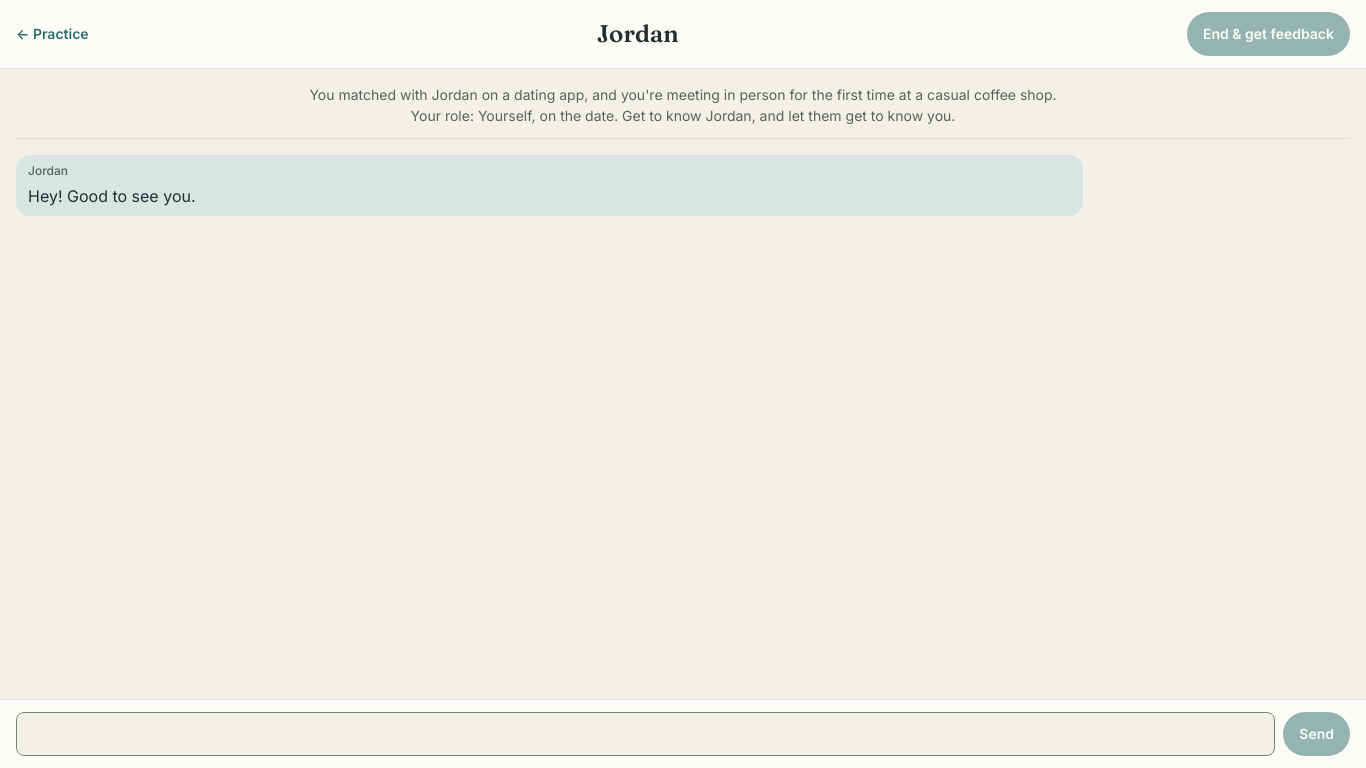
Test case: ConversationScreen › asks before leaving via the back button once the user has spoken, and stays put if declined
Expected: the text "Hey! Good to see you." is shown, [28,186,196,206]
Step 1. Type "Hi, nice to meet you!" into the field named "Message" → (646, 734), box [16,712,1275,756]
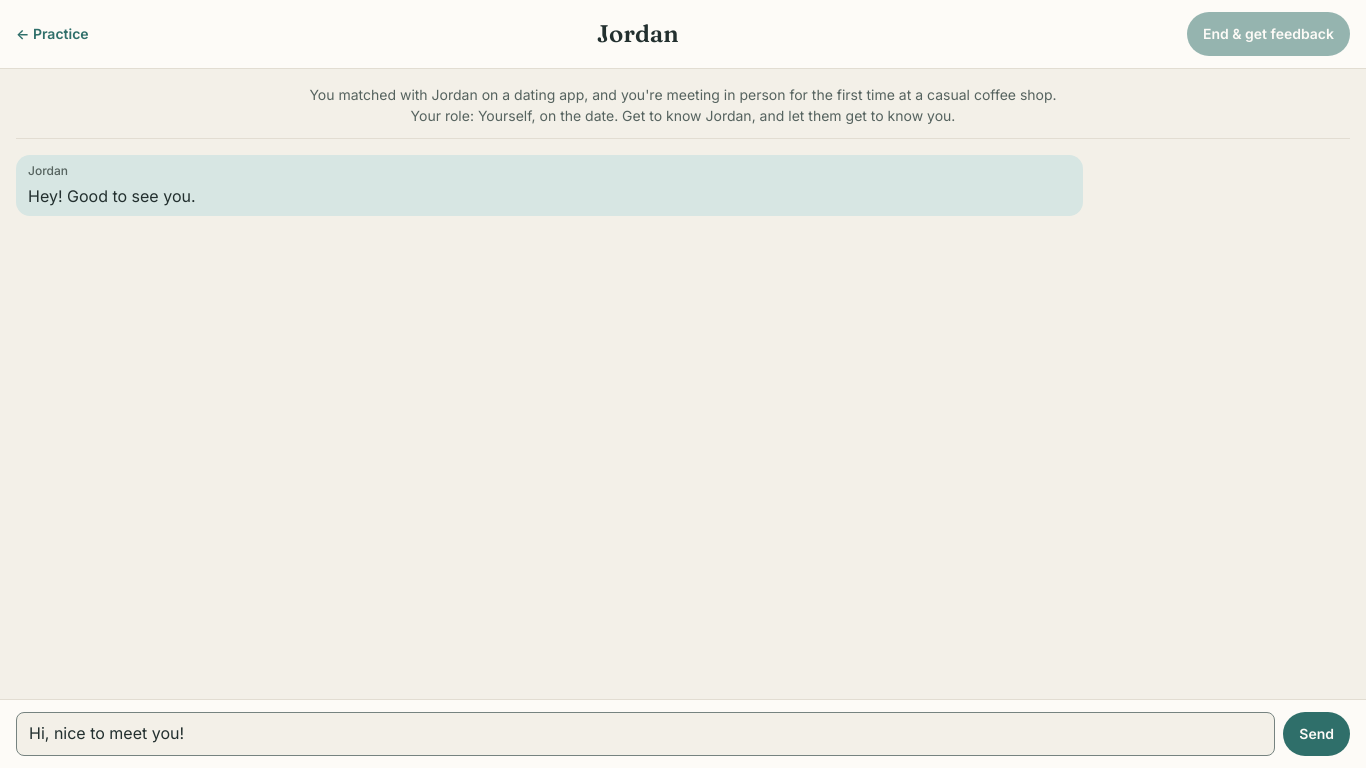
Step 2. Click the button "Send" → (1317, 734), box [1283,712,1350,756]
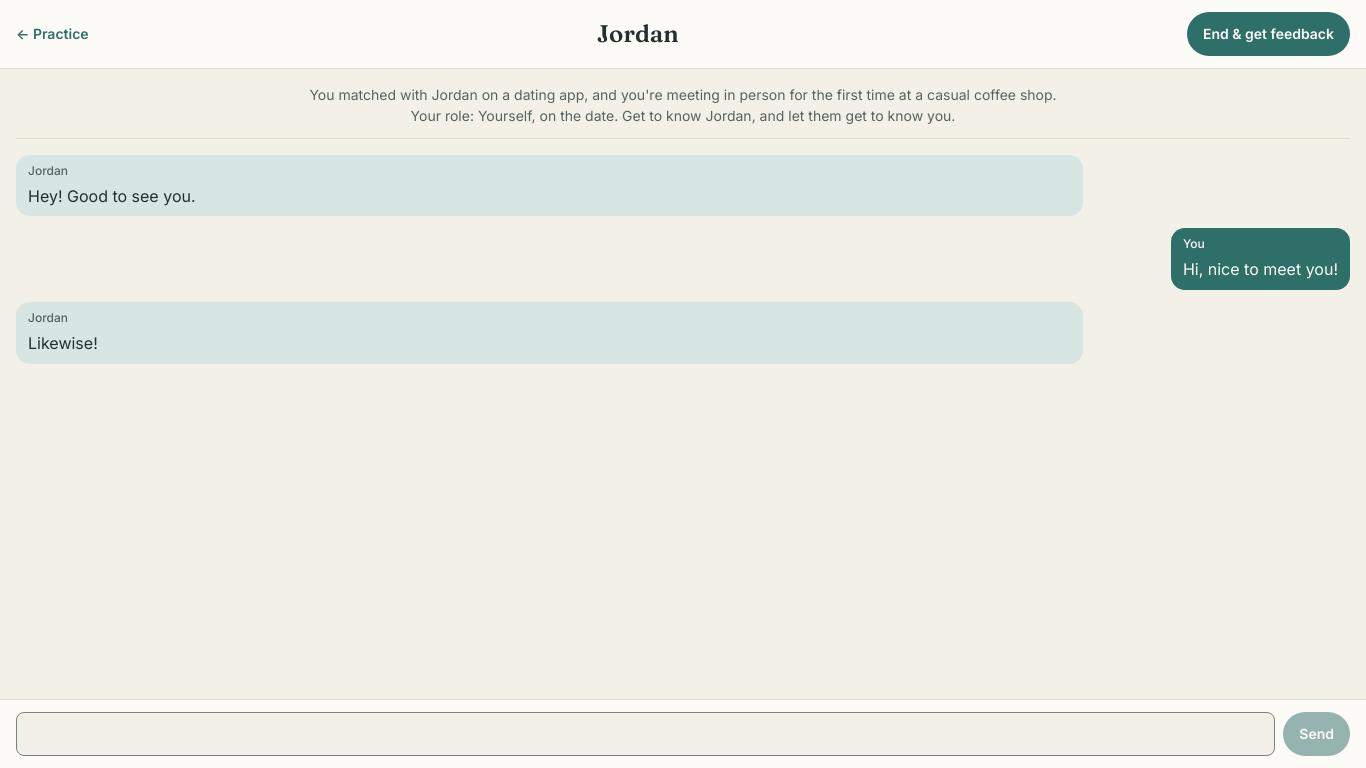
Expected: the text "Likewise!" is shown, [28,333,98,353]
Step 3. Click the button "← Practice" → (52, 34), box [16,12,89,56]
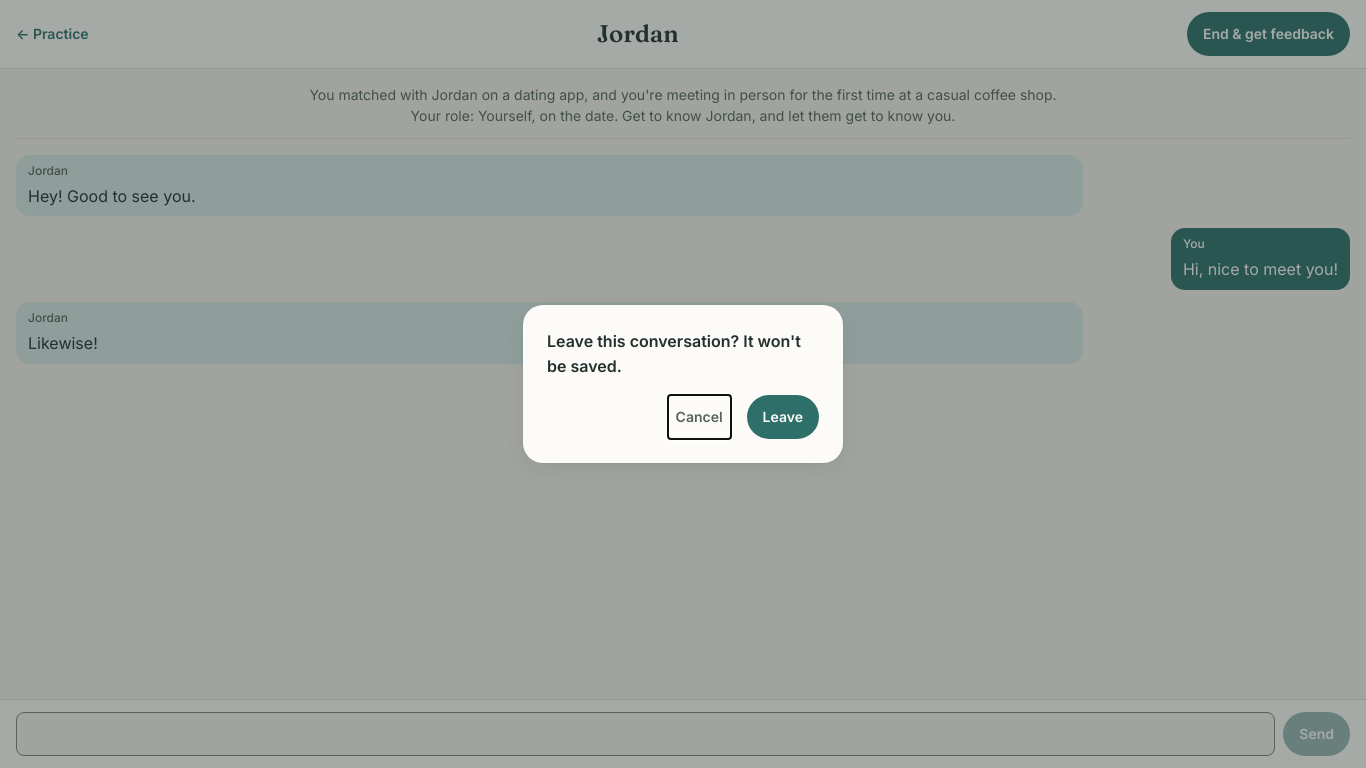
Expected: the dialog shows "Leave this conversation", [547,331,801,376]
Step 4. Click the button "Cancel" → (699, 417), box [668,395,731,439]
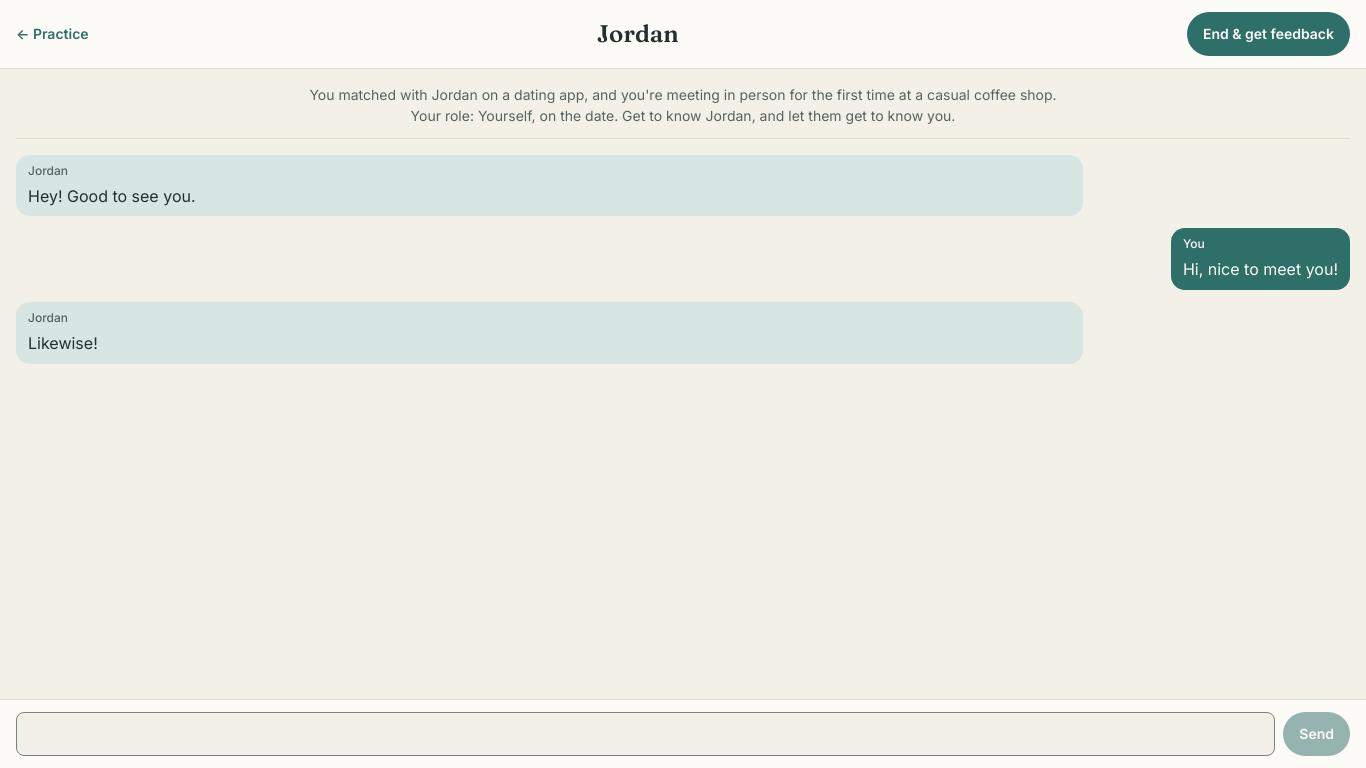
Expected: the text "Likewise!" is shown, [28,333,98,353]
Expected: the dialog is gone
